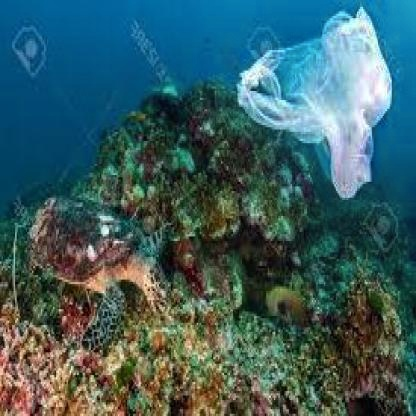pbag: (236, 5, 393, 200)
